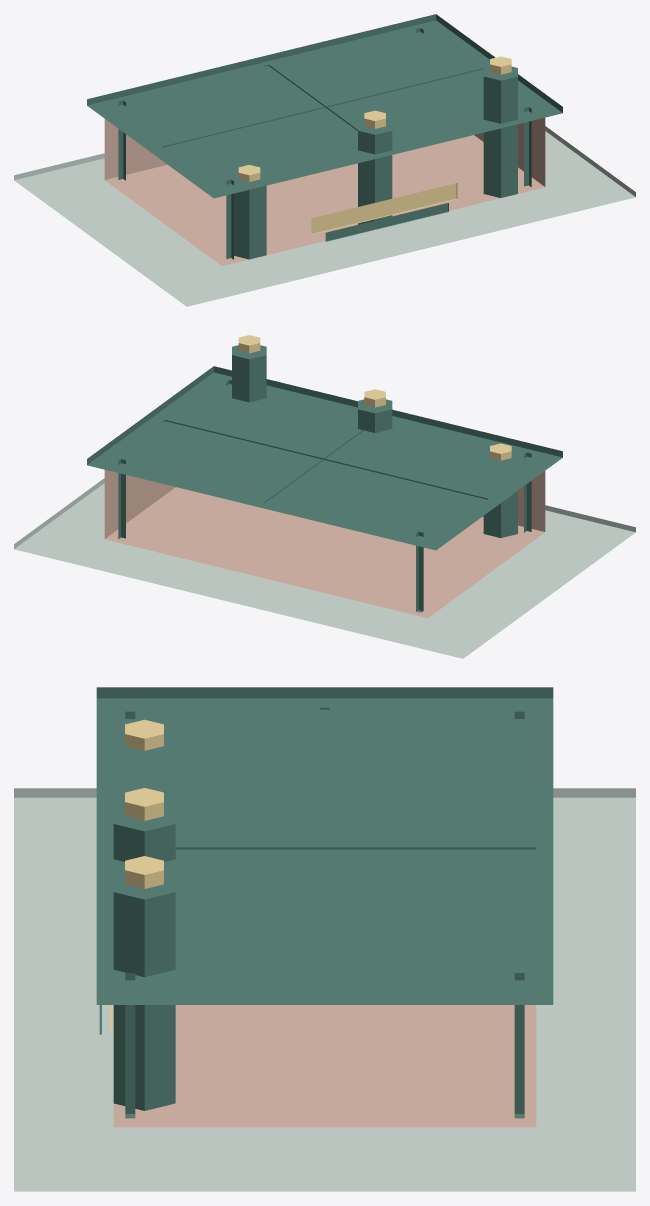
The model's file is polymer_plant.glb.
The picture shows the model from 3 angles, top to bottom: view 1: azimuth 30°, elevation 25°; view 2: azimuth 150°, elevation 25°; view 3: azimuth 270°, elevation 25°; orthographic projection. The views are drawn at different scales.
Parts seen in each view (by area): view 1: Roof, Foundation, Walls, Details, Frame; view 2: Roof, Walls, Foundation, Details, Frame; view 3: Roof, Foundation, Walls, Details, Frame.
Boxes of the visible parts, box(x1,y1,x2,y2) form: Roof: box(87, 14, 562, 198); Foundation: box(14, 126, 635, 306); Walls: box(104, 117, 545, 265); Details: box(234, 56, 517, 259); Frame: box(118, 28, 531, 259); Roof: box(87, 366, 562, 550); Walls: box(104, 470, 545, 618); Foundation: box(14, 478, 635, 658); Details: box(232, 335, 517, 537); Frame: box(118, 380, 531, 612); Roof: box(96, 687, 553, 1004); Foundation: box(14, 788, 635, 1191); Walls: box(113, 1005, 536, 1127); Details: box(99, 719, 175, 1110); Frame: box(125, 707, 536, 1118).
Size of the model in its own units: 60 by 17 by 40.
